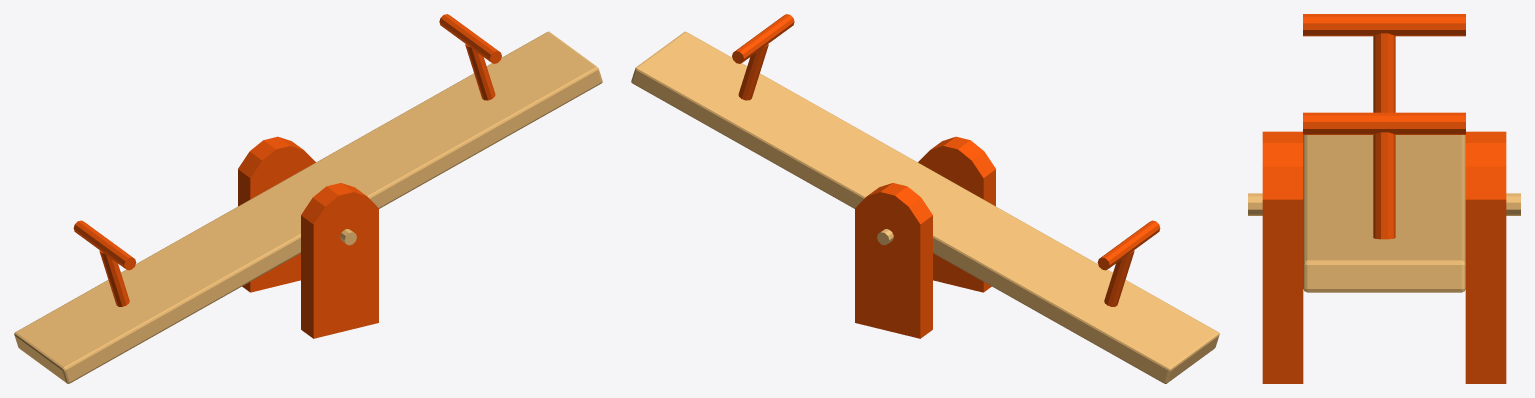
File: low_poly_seesaw.glb
The picture shows the model from 3 angles, left to right: view 1: azimuth 30°, elevation 25°; view 2: azimuth 150°, elevation 25°; view 3: azimuth 270°, elevation 25°; orthographic projection. The views are drawn at different scales.
Parts seen in each view (by area): view 1: Cube, Cube.001, Cylinder.002, Cylinder.001; view 2: Cube, Cube.001, Cylinder.002, Cylinder.001; view 3: Cube, Cube.001, Cylinder.001, Cylinder.002, Cylinder.
Part boxes in pixels (x1,y1,x2,y2): Cube: (14,31,602,383); Cube.001: (238,136,378,338); Cylinder.002: (73,220,136,306); Cylinder.001: (439,14,501,100); Cube: (631,31,1219,383); Cube.001: (855,136,995,338); Cylinder.002: (1097,220,1160,306); Cylinder.001: (732,14,794,100); Cube: (1303,135,1465,292); Cube.001: (1262,131,1506,383); Cylinder.001: (1303,112,1465,239); Cylinder.002: (1303,14,1465,112); Cylinder: (1248,193,1520,215).
Bounding box in the file's own units: 5.26 × 2.15 × 1.43.
